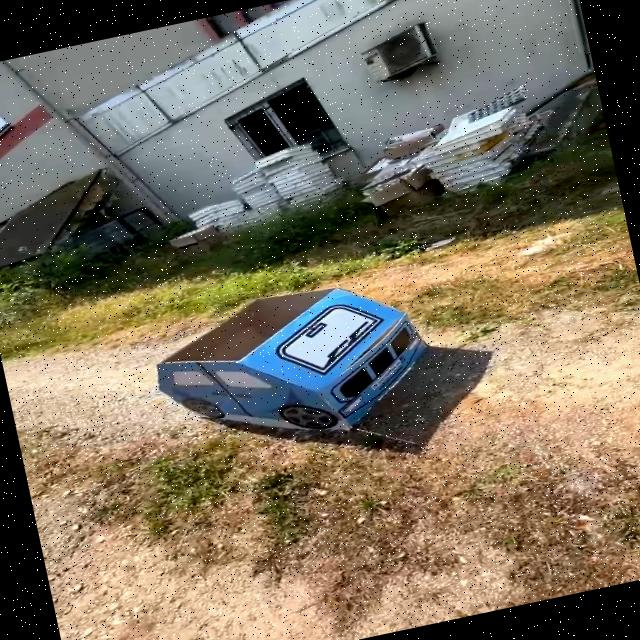blue_car: (125, 253, 469, 479)
